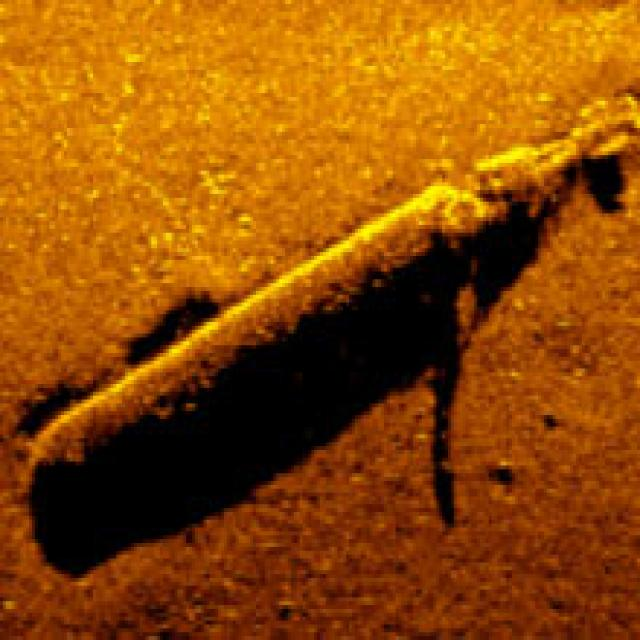other: (26, 128, 588, 485)
